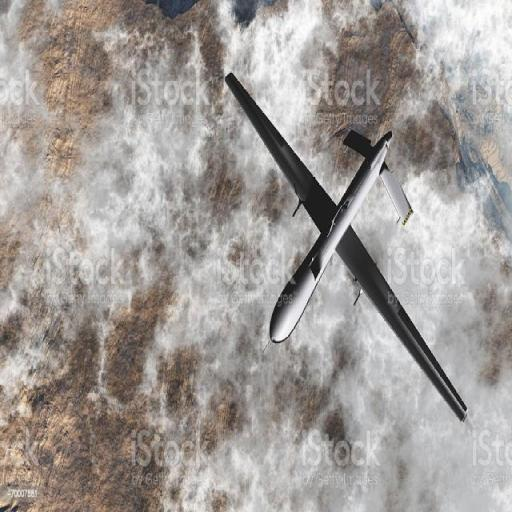uav: (221, 68, 481, 439)
